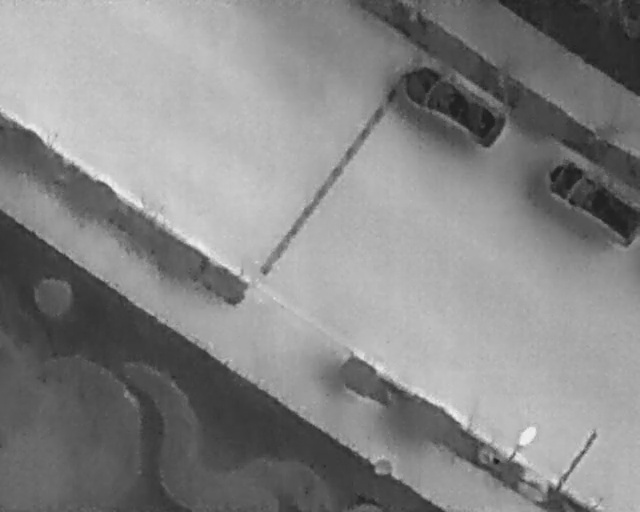Car: (391, 47, 518, 158), (544, 158, 639, 247)
